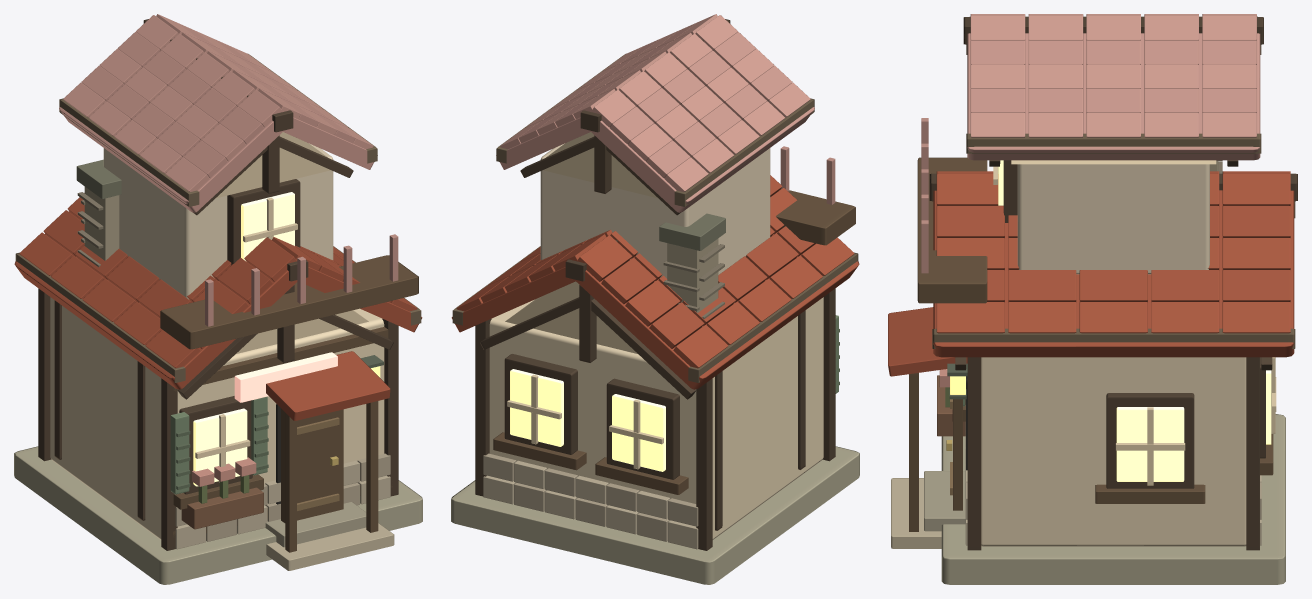
The model's file is workshop-2-0.glb.
3 renders of one model, left to right at view 1: azimuth 30°, elevation 25°; view 2: azimuth 150°, elevation 25°; view 3: azimuth 270°, elevation 25°, orthographic. The views are drawn at different scales.
Visible parts, largest first — view 1: workshop-0-2, door-hinge; view 2: workshop-0-2; view 3: workshop-0-2, door-hinge.
Boxes of the visible parts, x1,y1,x2,y2 form: workshop-0-2: [14, 14, 422, 584]; door-hinge: [281, 408, 343, 522]; workshop-0-2: [451, 14, 859, 584]; workshop-0-2: [888, 14, 1297, 584]; door-hinge: [946, 399, 962, 510].
Size of the model in its own units: 1.88 by 3 by 2.24.
